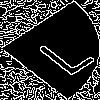L: (25, 25, 98, 78)
